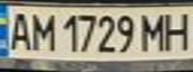1: (57, 11, 81, 53)
2: (93, 11, 118, 54)
7: (75, 11, 100, 54)
9: (115, 11, 139, 54)
A: (3, 9, 33, 52)
H: (160, 9, 193, 52)
M: (136, 10, 172, 52), (27, 9, 57, 52)
